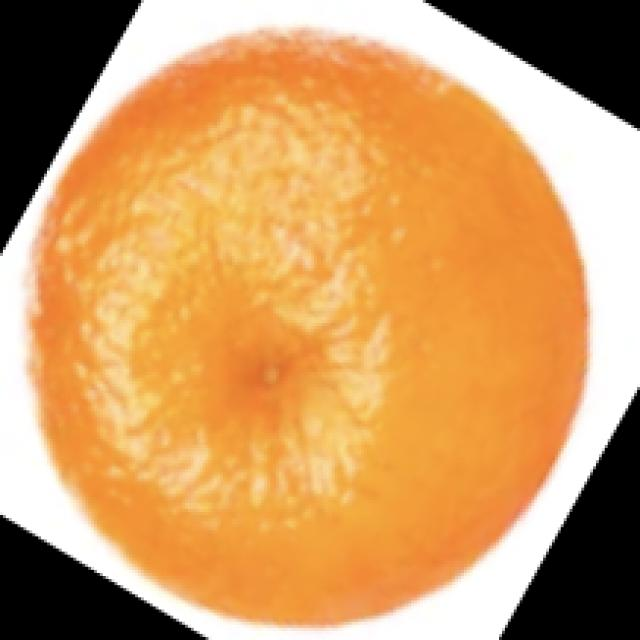fresh: (16, 27, 606, 634)
